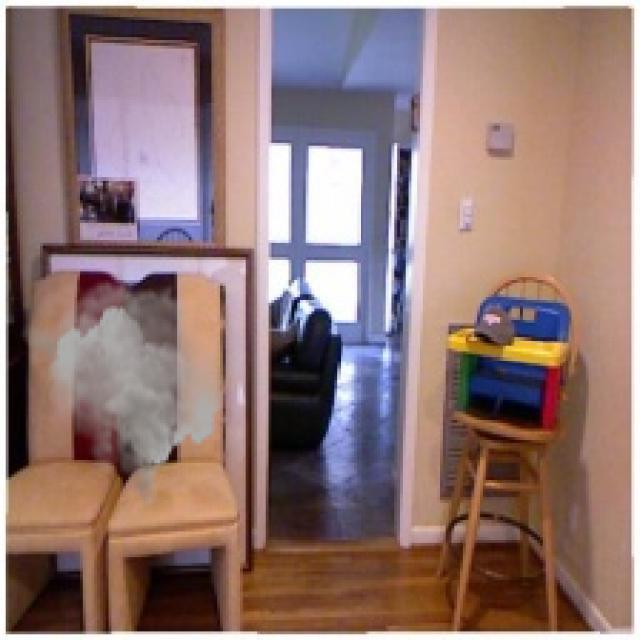Smoke: (20, 274, 226, 512)
